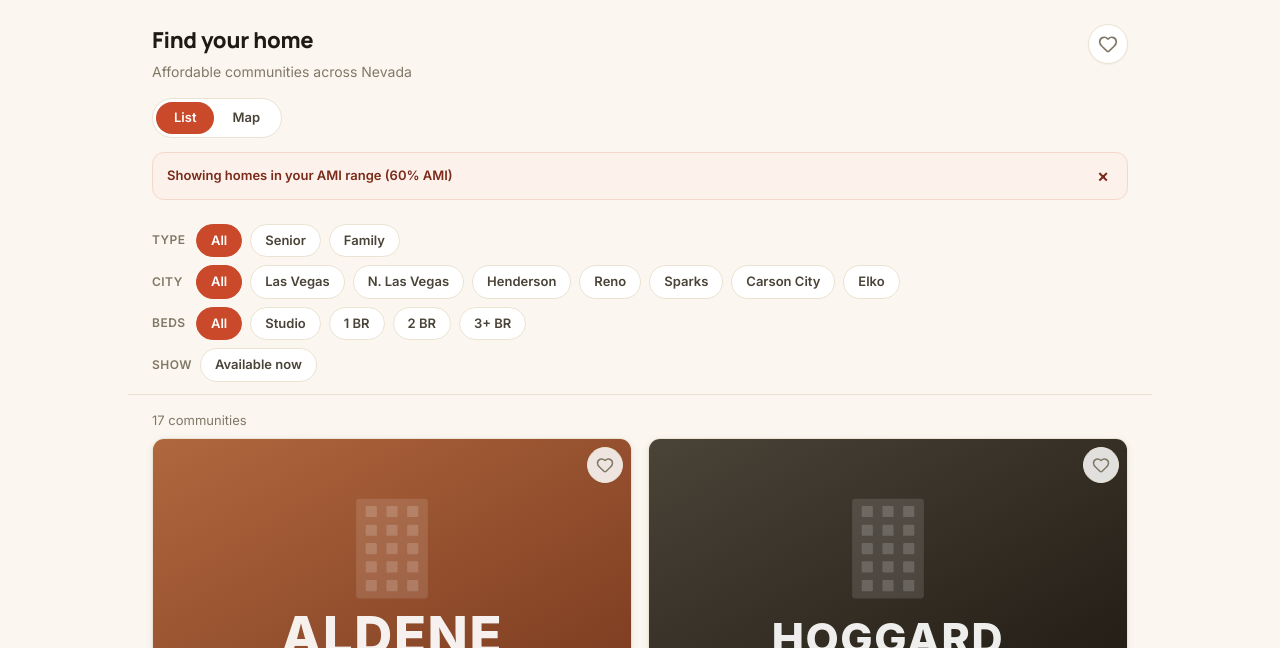
Test case: PropertyList (GPMG fixtures) › deep-linking ?amiTier=60 shows dismissible banner and pre-filters
Check: the message "Showing homes in your AMI range (60% AMI) ×" is shown, box [152, 152, 1128, 200]
Check: the message with test id "ami-banner" shows "60% AMI", box [167, 167, 453, 183]
// Clicking dismiss should remove the banner from the DOM.
What coordinates should you click on to do the following:
click the button with test id "ami-banner-dismiss"
I would click on:
 (1103, 176)
Its box is [1093, 162, 1113, 188].
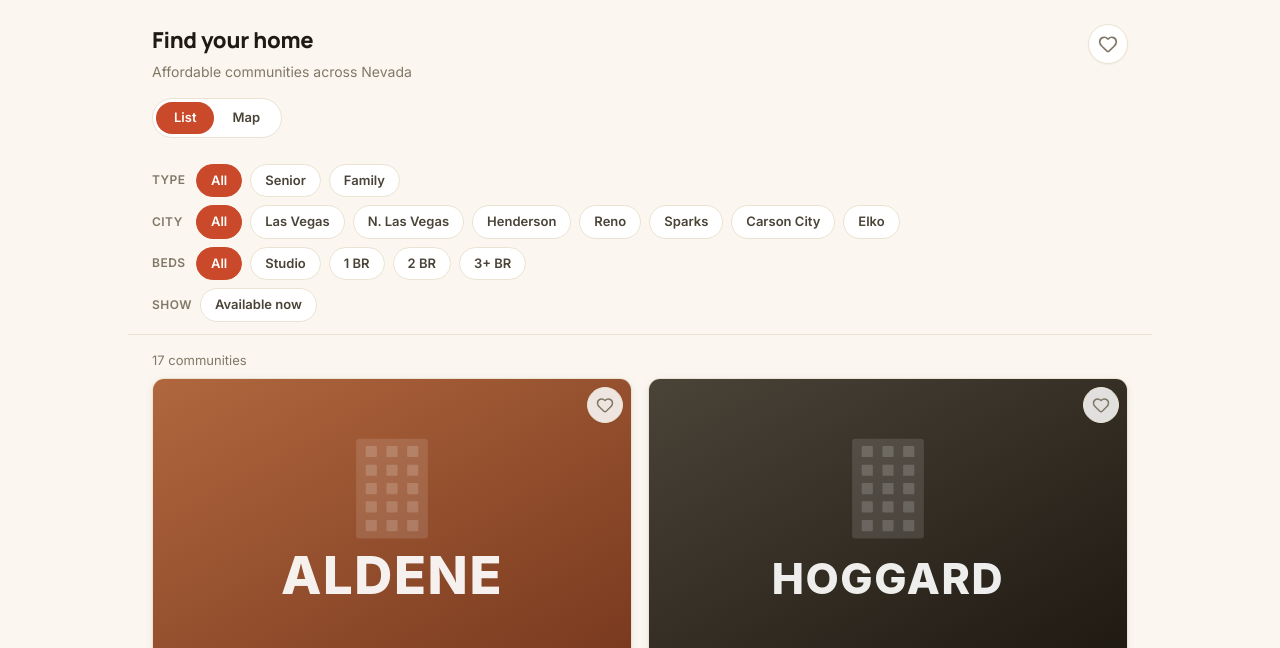
Check: the message with test id "ami-banner" is gone
